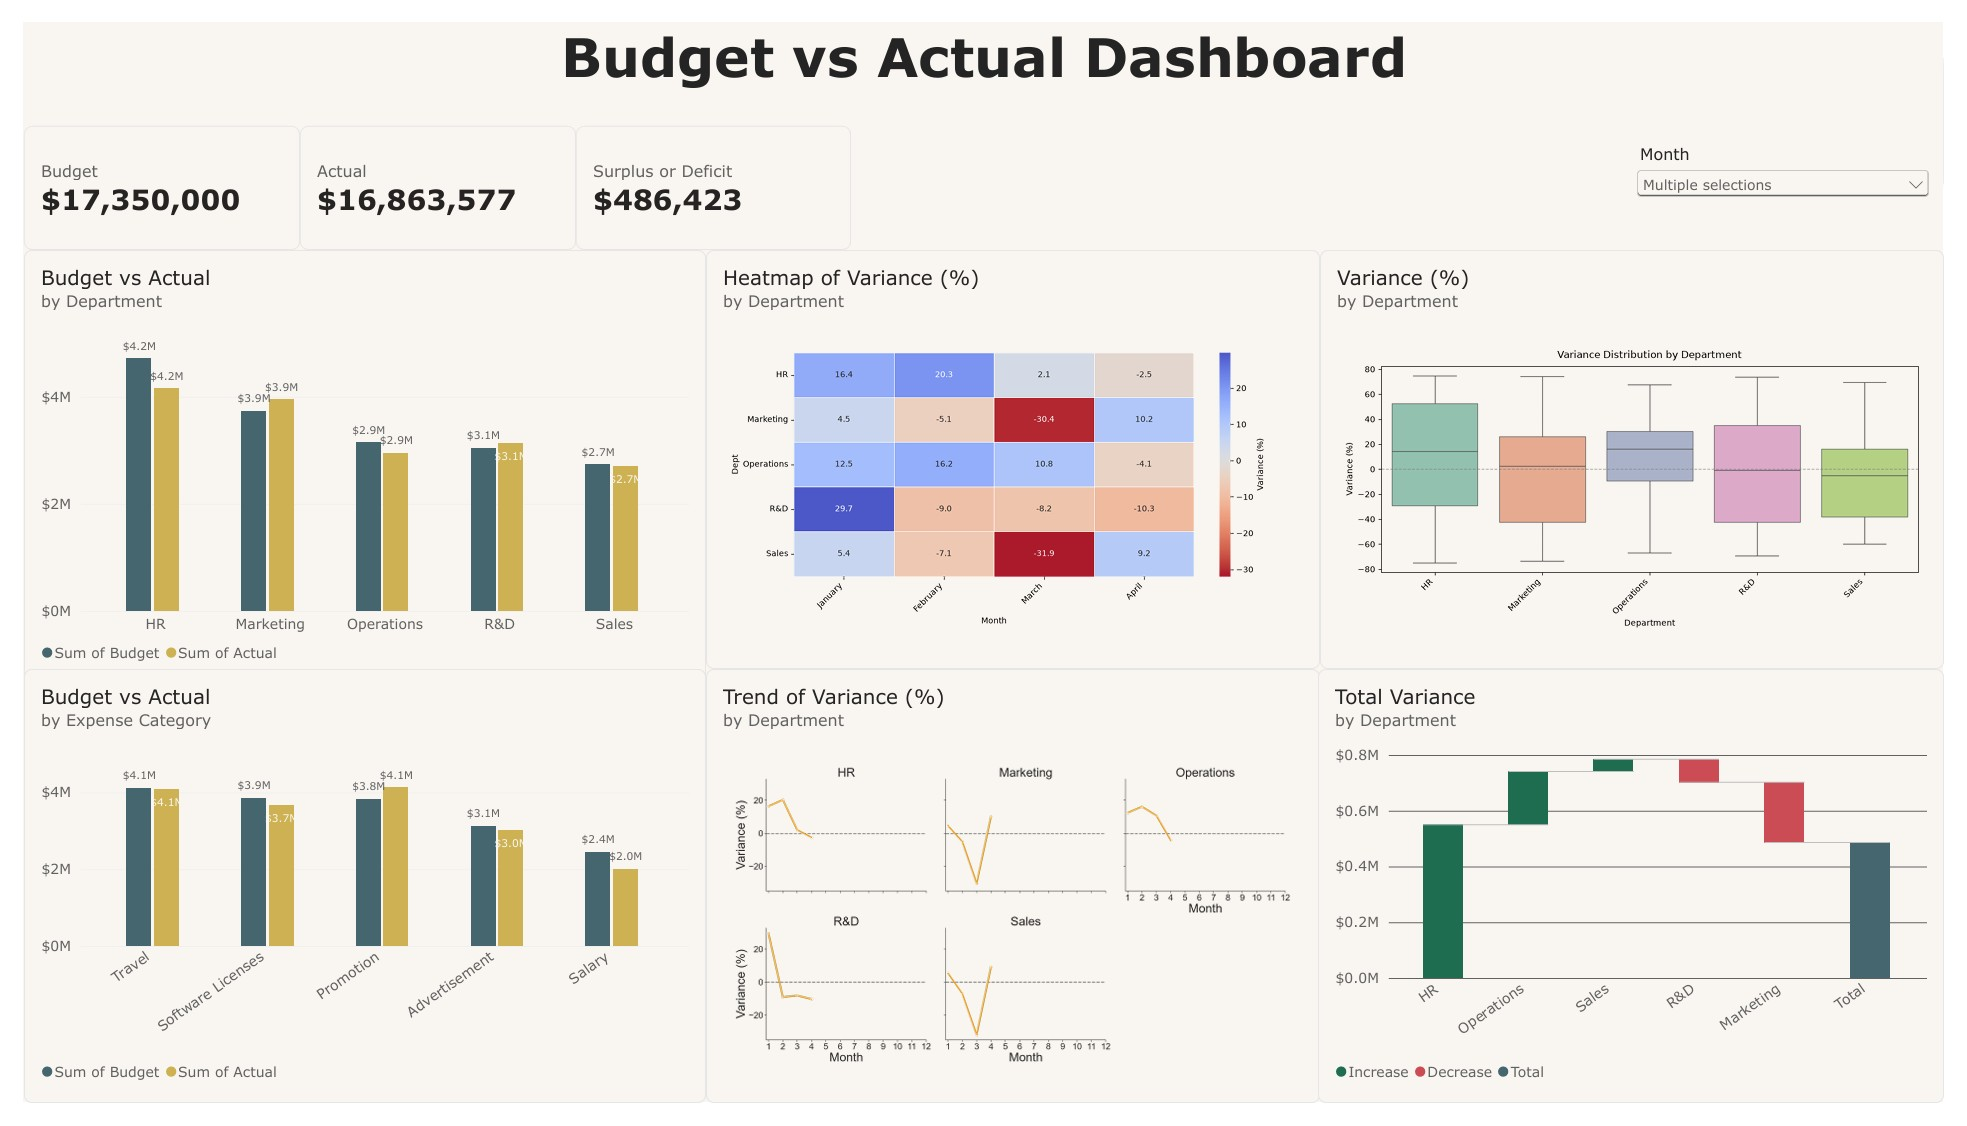

The page's visual inventory and layout, read from the dashboard file:
{"tool":"powerbi","page":{"name":"Summary","canvas":[1920,1080],"ordinal":0},"visuals":[{"type":"clusteredColumnChart","title":"Budget vs Actual","fields":{"Category":["variance_analysis.Department"],"Y":["Sum(variance_analysis.Budget)","Sum(variance_analysis.Actual)"]},"box":[0,226.7,682.2,434.4],"z":0},{"type":"textbox","box":[0,0,1920,91.1],"z":1000},{"type":"cardVisual","fields":{"Data":["Sum(variance_analysis.Actual)"]},"box":[275.8,103.1,275.8,123.7],"z":2000},{"type":"cardVisual","fields":{"Data":["Sum(variance_analysis.Budget)"]},"box":[0,103.1,275.8,123.7],"z":3000},{"type":"clusteredColumnChart","title":"Budget vs Actual","fields":{"Category":["variance_analysis.Category"],"Y":["Sum(variance_analysis.Budget)","Sum(variance_analysis.Actual)"]},"box":[0,645.6,682.2,434.4],"z":4000},{"type":"slicer","fields":{"Values":["variance_analysis.Date.Variation.Date Hierarchy.Month"]},"box":[1607.8,121.1,302.3,87.4],"z":5000},{"type":"pythonVisual","title":"Heatmap of Variance (%)","fields":{"Values":["variance_analysis.Department","variance_analysis.Month","Avg(variance_analysis.Variance_Pct)"]},"box":[682.2,226.7,613.3,418.9],"z":6000},{"type":"cardVisual","fields":{"Data":["Sum(variance_analysis.Variance)"]},"box":[551.7,103.1,275.8,123.7],"z":7000},{"type":"pythonVisual","title":"Trend of Variance (%)","fields":{"Values":["variance_analysis.Department","variance_analysis.Month","Avg(variance_analysis.Variance_Pct)"]},"box":[682.2,645.6,613.3,434.4],"z":8000},{"type":"pythonVisual","title":"Variance (%)","fields":{"Values":["variance_analysis.Department","variance_analysis.Variance_Pct"]},"box":[1295.6,226.7,624.4,418.9],"z":9000},{"type":"waterfallChart","title":"Total Variance","fields":{"Category":["variance_analysis.Department"],"Y":["Sum(variance_analysis.Variance)"]},"box":[1294.4,645.6,625.6,434.4],"z":10000}]}

Visuals, with their boxes in screenshot pixels (x1, y1, x2, y2), scaled from the page's 1920x1080 canvas onto the 1967x1126 screenshot:
"Budget vs Actual" clusteredColumnChart: (0, 236, 699, 689)
textbox: (0, 0, 1966, 95)
cardVisual - Sum(variance_analysis.Actual): (283, 107, 565, 236)
cardVisual - Sum(variance_analysis.Budget): (0, 107, 283, 236)
"Budget vs Actual" clusteredColumnChart: (0, 673, 699, 1125)
slicer - variance_analysis.Date.Variation.Date Hierarchy.Month: (1647, 126, 1957, 217)
"Heatmap of Variance (%)" pythonVisual: (699, 236, 1327, 673)
cardVisual - Sum(variance_analysis.Variance): (565, 107, 848, 236)
"Trend of Variance (%)" pythonVisual: (699, 673, 1327, 1125)
"Variance (%)" pythonVisual: (1327, 236, 1966, 673)
"Total Variance" waterfallChart: (1326, 673, 1966, 1125)
